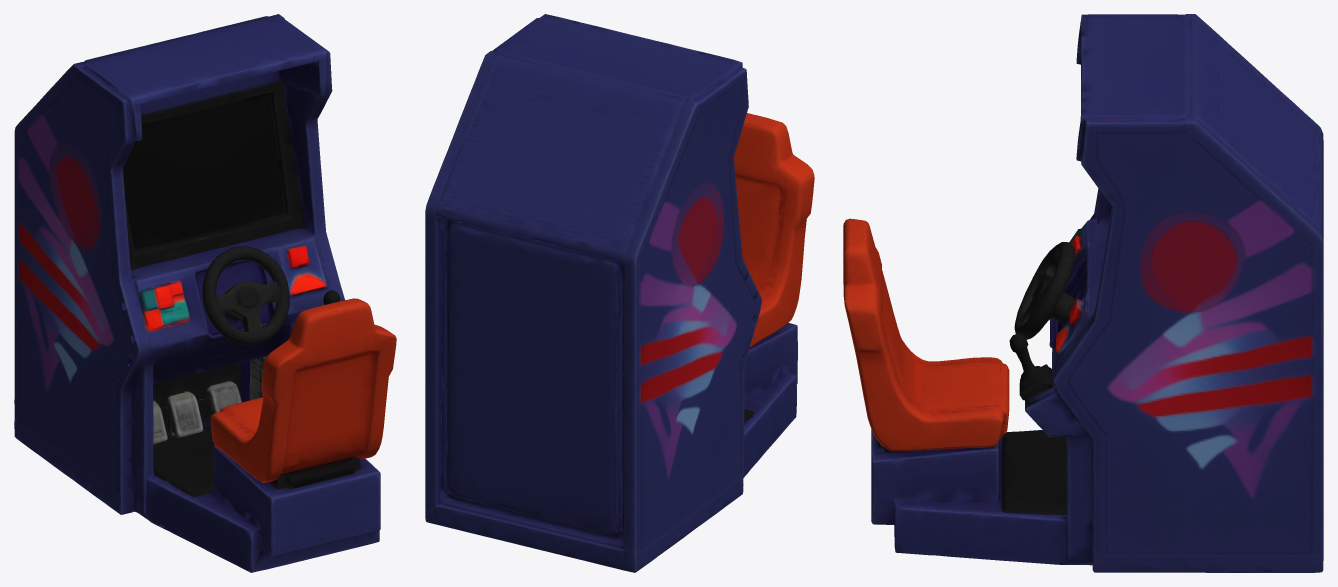
Rendered from 18_arcade_18_racer_orange.glb.
3 views of the same model, side by side, from view 1: azimuth 30°, elevation 25°; view 2: azimuth 150°, elevation 25°; view 3: azimuth 270°, elevation 25° (orthographic). The views are drawn at different scales.
Visible parts, largest first — view 1: world; view 2: world; view 3: world.
Boxes of the visible parts, x1=… form: world: x1=14, y1=14, x2=396, y2=572; world: x1=425, y1=14, x2=814, y2=572; world: x1=843, y1=14, x2=1323, y2=572.
Bounding box in the file's own units: 0.5188 × 1 × 0.9624.
1 material, 1 textured.
